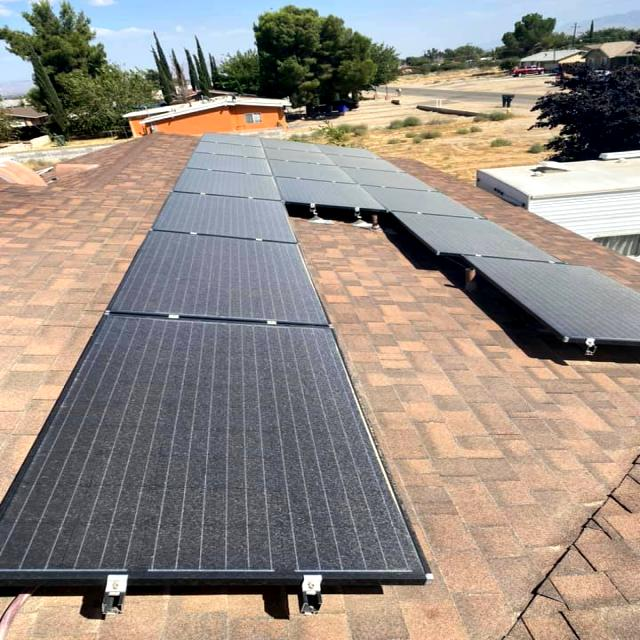dust: (195, 464, 374, 564), (25, 463, 171, 568), (231, 350, 341, 466), (72, 373, 224, 452), (266, 149, 436, 203), (542, 274, 640, 339), (164, 227, 230, 290), (112, 319, 204, 364), (424, 214, 501, 260), (240, 251, 298, 312), (196, 142, 253, 196), (168, 200, 268, 230)
